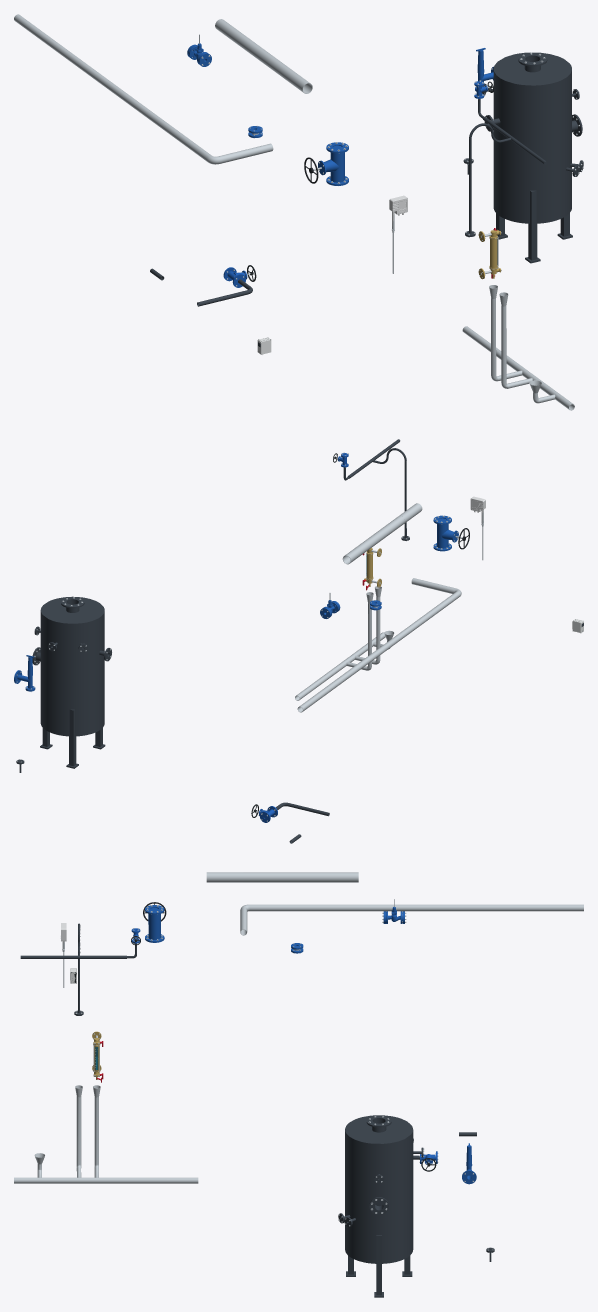
File: s4000-3-CXLJCLnt.glb
3 views of the same model, one above another, from view 1: azimuth 30°, elevation 25°; view 2: azimuth 150°, elevation 25°; view 3: azimuth 270°, elevation 25° (orthographic). The views are drawn at different scales.
Parts seen in each view (by area): view 1: separator_bdv60_5 / dark, safety_vent_1 / steel, local_open_drains / steel, steam_delivery / steel, pressure_header / dark, steam_manual / blue, sight_glasses_2 / sight_glasses_2_0.npz; view 2: separator_bdv60_5 / dark, safety_vent_1 / steel, local_open_drains / steel, steam_delivery / steel, pressure_header / dark, steam_manual / blue; view 3: separator_bdv60_5 / dark, safety_vent_1 / steel, local_open_drains / steel, steam_delivery / steel, pressure_header / dark, steam_manual / blue.
Boxes of the visible parts, x1,y1,x2,y2 form: separator_bdv60_5 / dark: [482, 52, 583, 263]; safety_vent_1 / steel: [14, 14, 273, 164]; local_open_drains / steel: [462, 285, 574, 410]; steam_delivery / steel: [215, 19, 288, 76]; pressure_header / dark: [465, 99, 547, 236]; steam_manual / blue: [318, 142, 348, 185]; sight_glasses_2 / sight_glasses_2_0.npz: [478, 228, 501, 279]; separator_bdv60_5 / dark: [32, 596, 111, 768]; safety_vent_1 / steel: [297, 578, 461, 712]; local_open_drains / steel: [295, 586, 394, 700]; steam_delivery / steel: [342, 516, 404, 564]; pressure_header / dark: [343, 439, 409, 540]; steam_manual / blue: [433, 515, 458, 551]; separator_bdv60_5 / dark: [338, 1115, 423, 1297]; safety_vent_1 / steel: [240, 904, 583, 935]; local_open_drains / steel: [14, 1085, 198, 1183]; steam_delivery / steel: [243, 872, 358, 882]; pressure_header / dark: [20, 923, 136, 1015]; steam_manual / blue: [145, 905, 164, 942].
Bounding box in the file's own units: 5.57 × 3.37 × 6.4.
